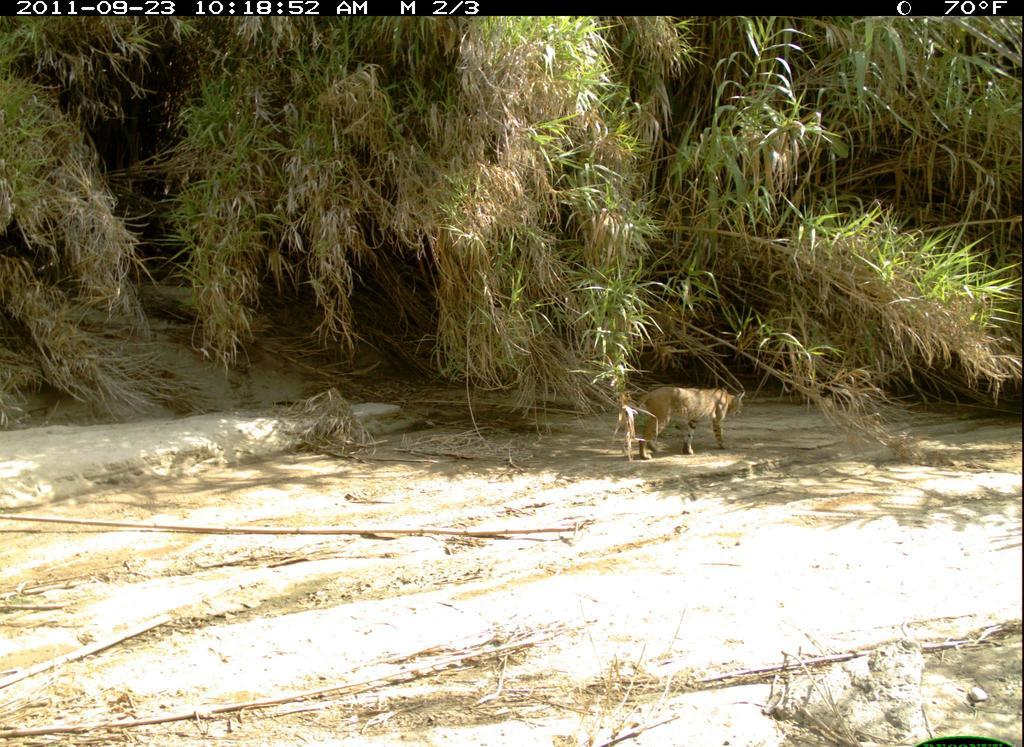bobcat: (624, 383, 752, 466)
